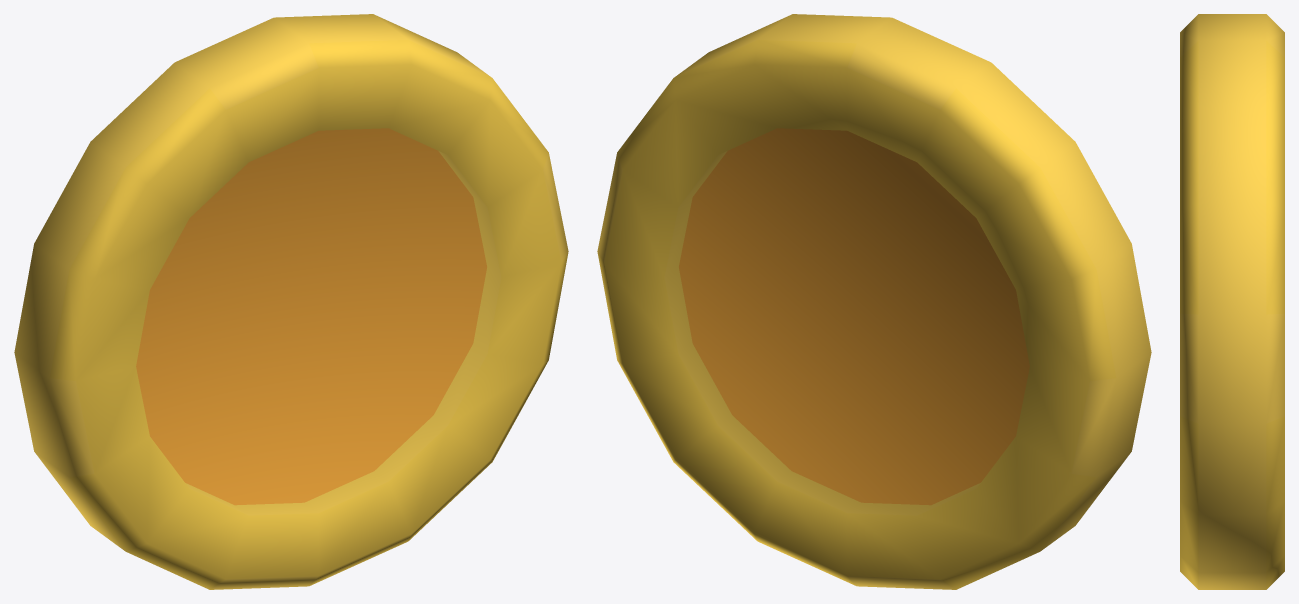
Rendered from Coin.fbx.
3 views of the same model, side by side, from view 1: azimuth 30°, elevation 25°; view 2: azimuth 150°, elevation 25°; view 3: azimuth 270°, elevation 25° (orthographic). The views are drawn at different scales.
Visible parts, largest first — view 1: Coin; view 2: Coin; view 3: Coin.
Part boxes in pixels (x1,y1,x2,y2): Coin: [14, 14, 568, 589]; Coin: [597, 14, 1151, 589]; Coin: [1180, 14, 1284, 589].
Bounding box in the file's own units: 67.71 × 67.71 × 12.33.
